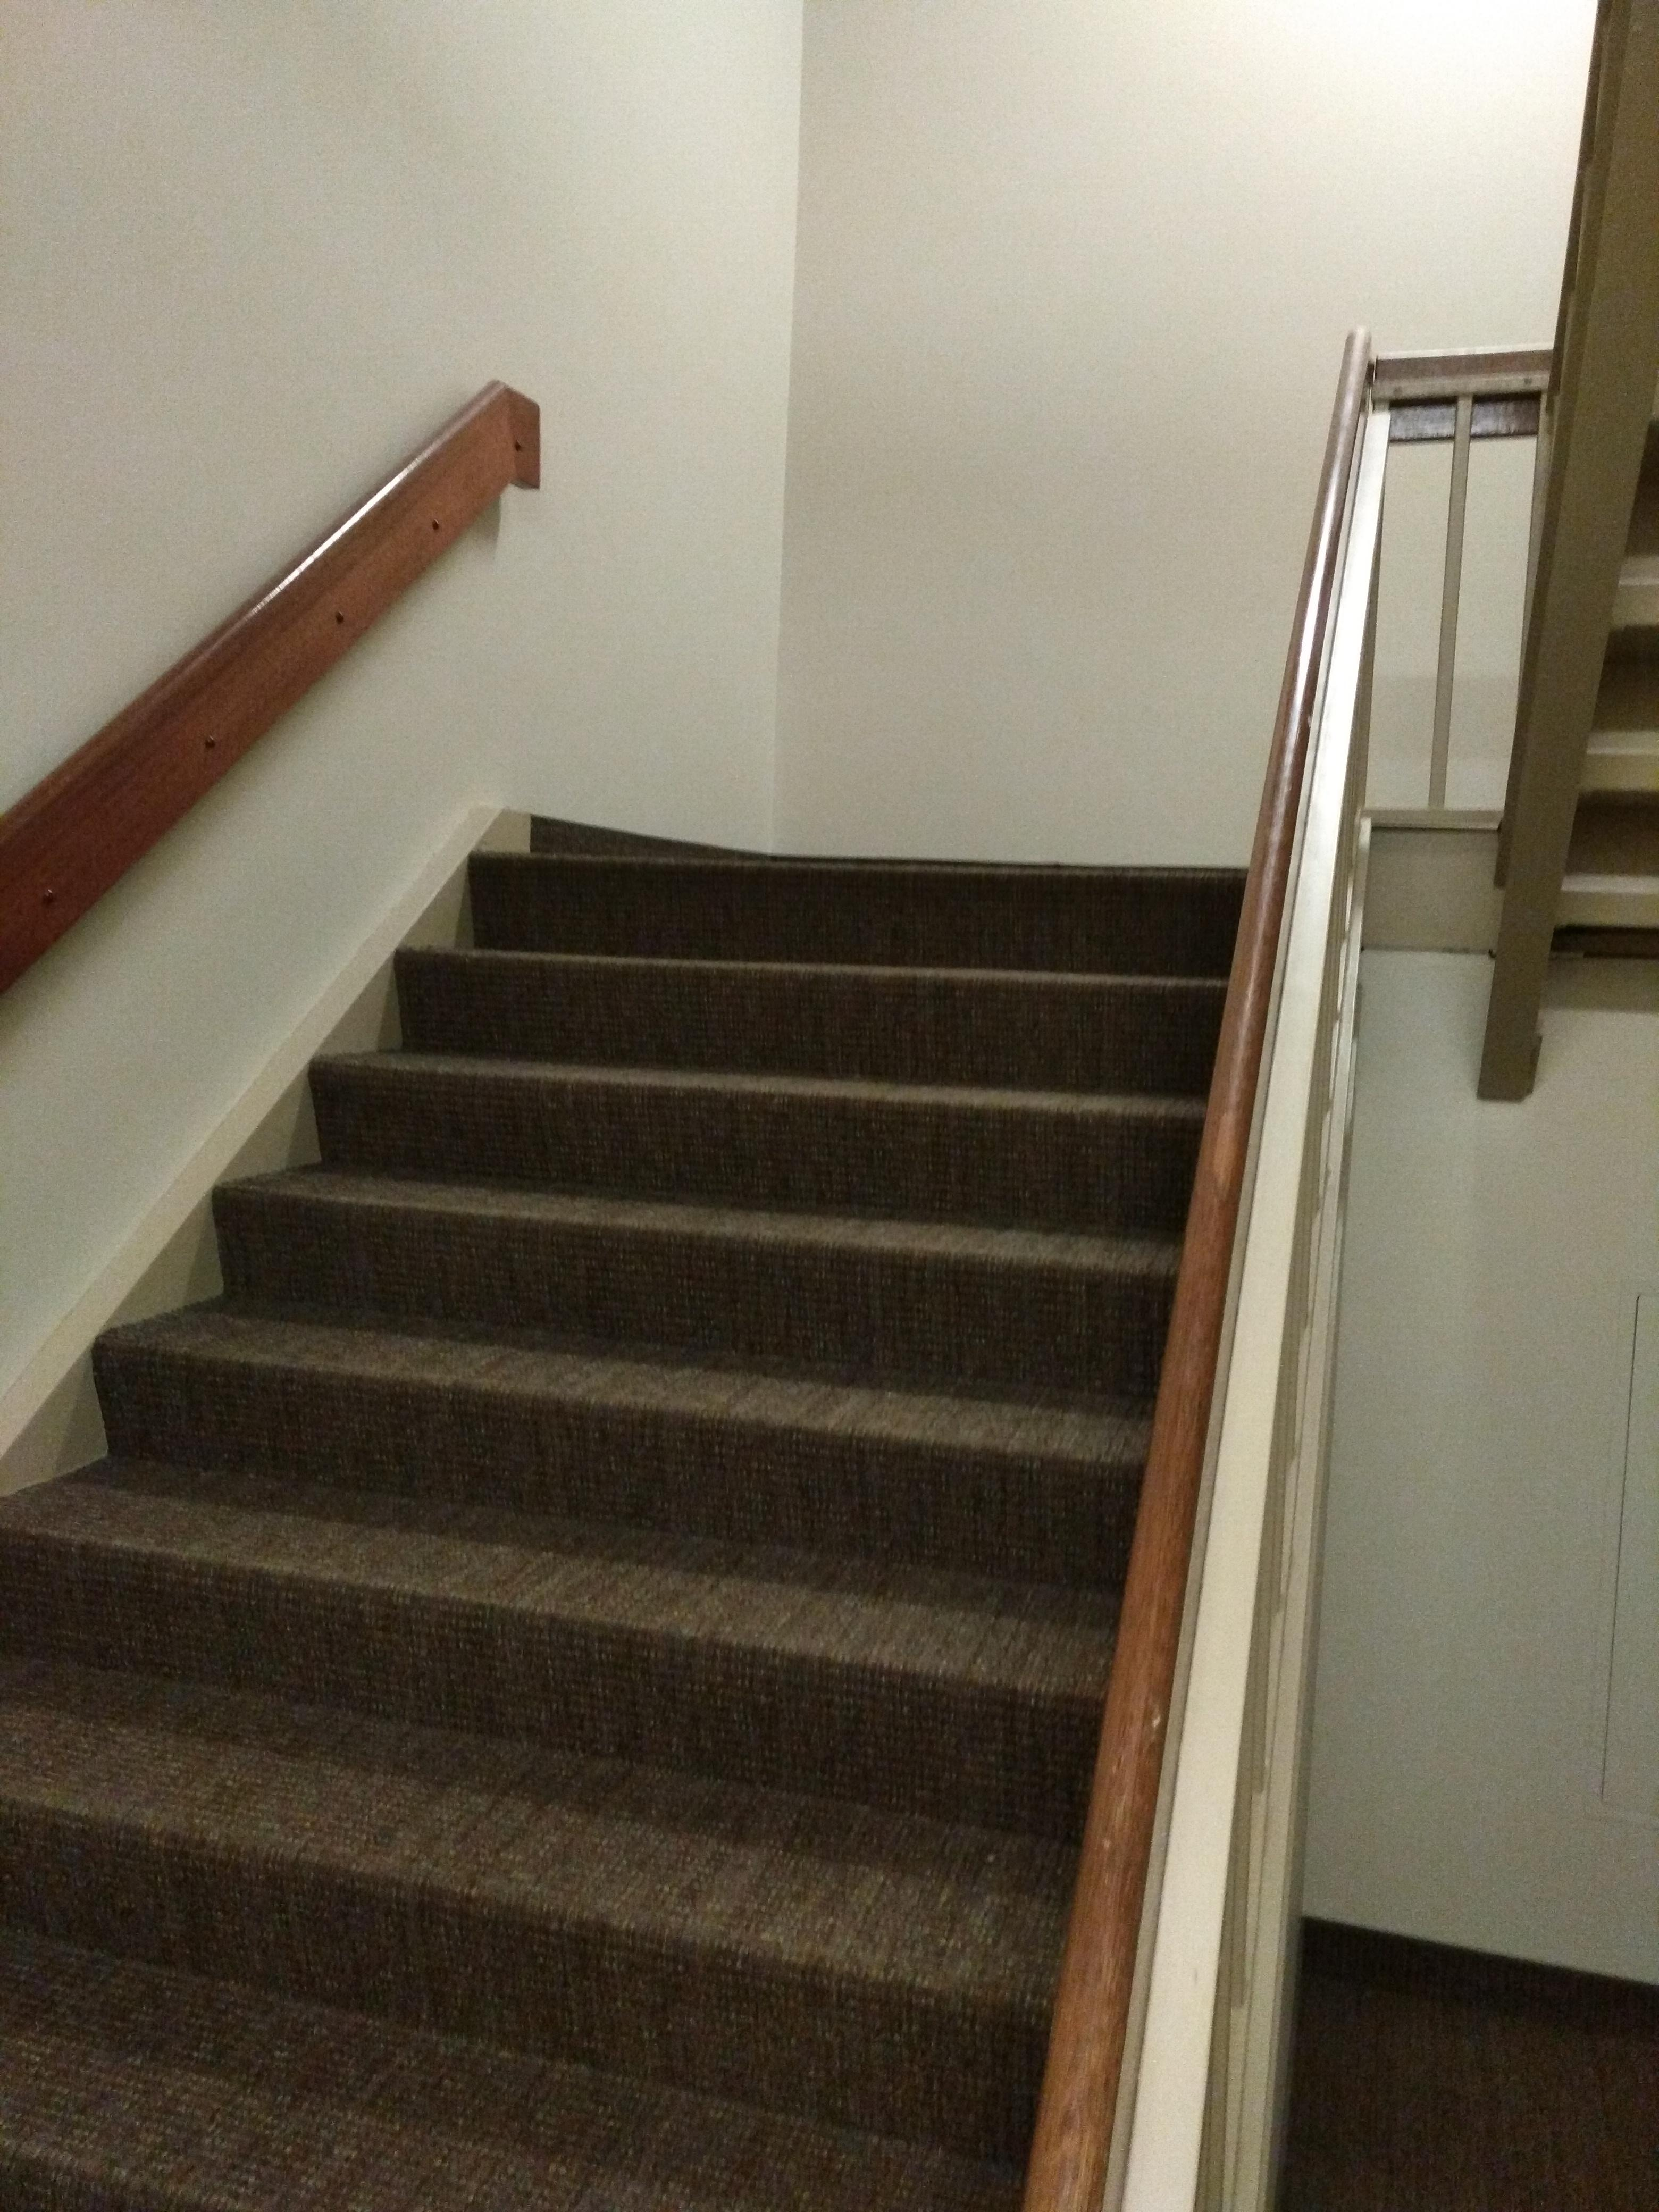stairs_up: (0, 838, 1290, 2212)
